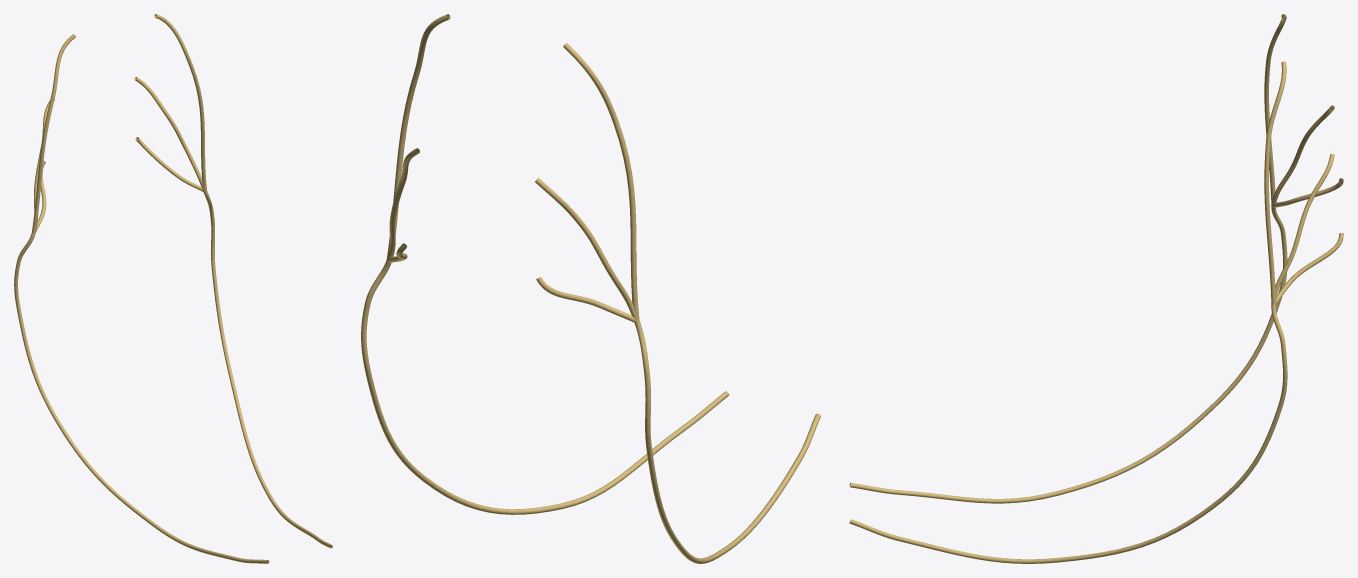
Rendered from detail-nervous-pelvis.glb.
3 renders of one model, left to right at view 1: azimuth 30°, elevation 25°; view 2: azimuth 150°, elevation 25°; view 3: azimuth 270°, elevation 25°, orthographic. The views are drawn at different scales.
Visible parts, largest first — view 1: za-145f112d82883d6b, za-0c18537bb0c66e0d; view 2: za-0c18537bb0c66e0d, za-145f112d82883d6b; view 3: za-145f112d82883d6b, za-0c18537bb0c66e0d.
Boxes of the visible parts, bbox=[...] form: za-145f112d82883d6b: bbox=[134, 14, 332, 548]; za-0c18537bb0c66e0d: bbox=[14, 34, 269, 563]; za-0c18537bb0c66e0d: bbox=[535, 43, 820, 563]; za-145f112d82883d6b: bbox=[361, 14, 729, 514]; za-145f112d82883d6b: bbox=[849, 61, 1343, 563]; za-0c18537bb0c66e0d: bbox=[849, 14, 1343, 503].
Bounding box in the file's own units: 0.0579 × 0.1162 × 0.105.
